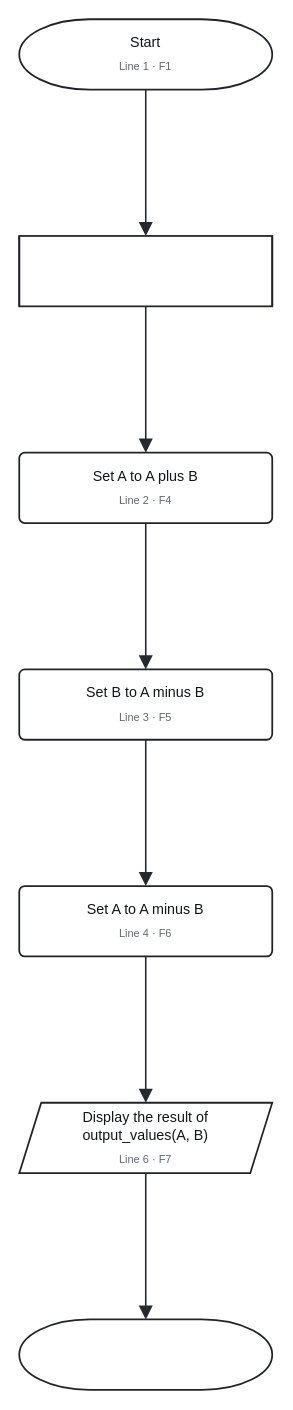
This 293x1410 diagram has some shape labels left out. Here are the shapes that lost their labels. From the top down, the box of each, then its label:
(18, 235, 273, 307): Run function unnamed_function with A, B Line 1 · F3
(18, 1318, 273, 1390): End Line 1 · F2
